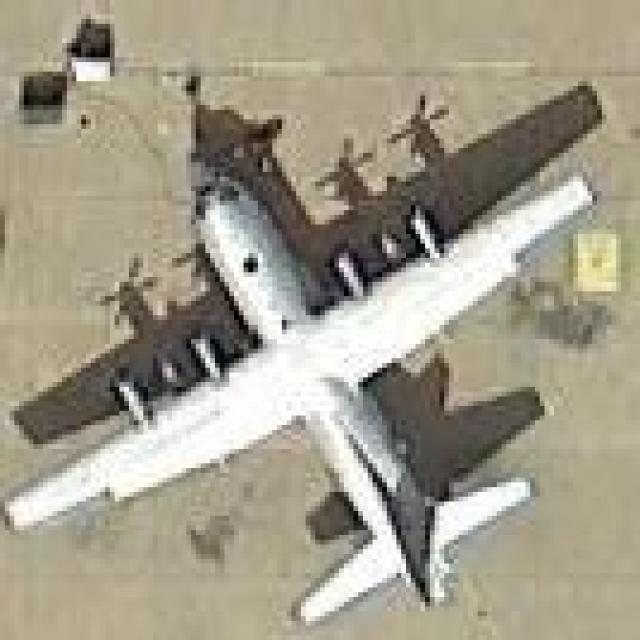C-130_TopDown: (4, 91, 594, 624)
